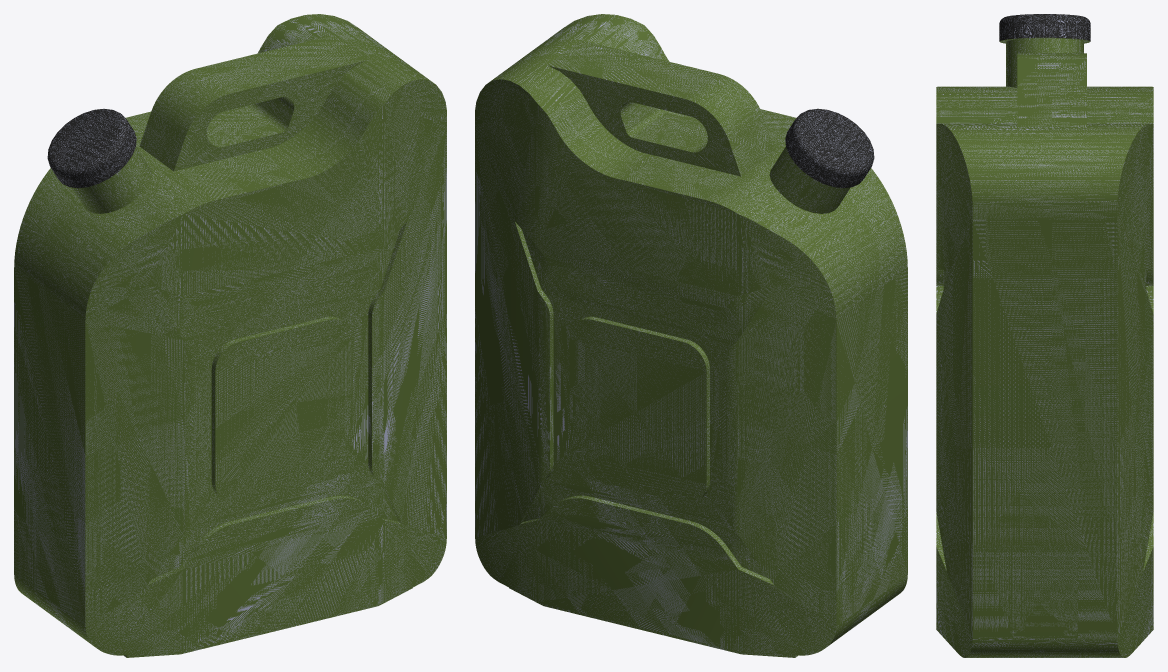
Rendered from _oil.dae.
3 renders of one model, left to right at view 1: azimuth 30°, elevation 25°; view 2: azimuth 150°, elevation 25°; view 3: azimuth 270°, elevation 25°, orthographic.
Visible parts, largest first — view 1: Tanica_di_benzina (×5); view 2: Tanica_di_benzina (×5); view 3: Tanica_di_benzina (×2).
Part boxes in pixels (x1,y1,x2,y2): Tanica_di_benzina (×5): [14, 14, 446, 657]; Tanica_di_benzina (×5): [475, 14, 907, 657]; Tanica_di_benzina (×2): [936, 14, 1153, 657].
Bounding box in the file's own units: 11.52 × 5.91 × 15.65.
